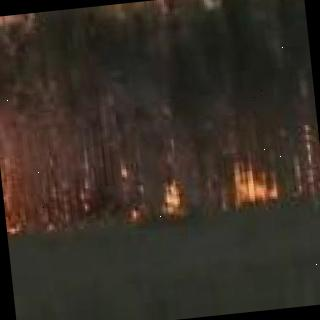fire: (229, 160, 281, 210), (0, 92, 10, 233), (156, 179, 193, 213)
